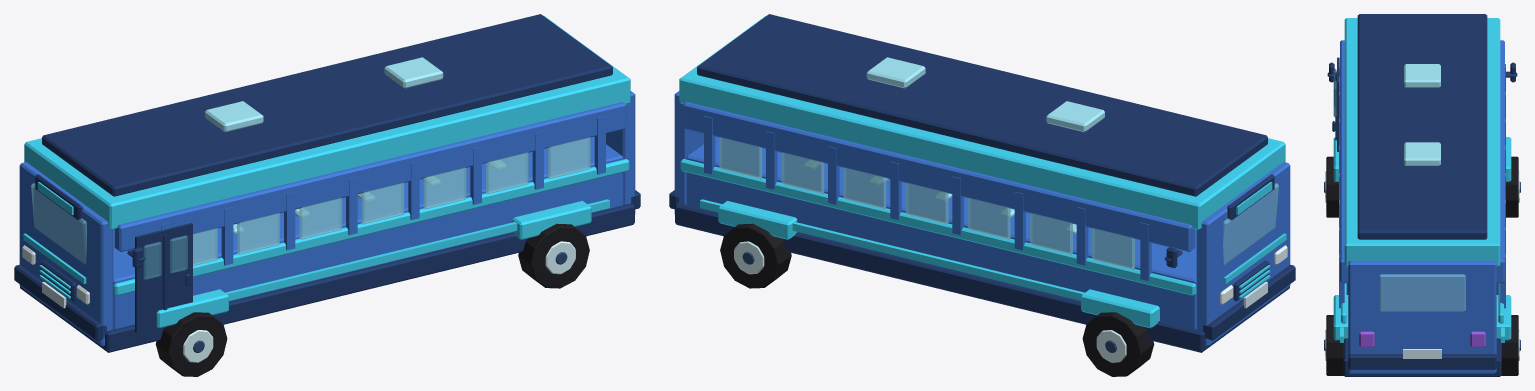
The model's file is Bus.fbx.
3 renders of one model, left to right at view 1: azimuth 30°, elevation 25°; view 2: azimuth 150°, elevation 25°; view 3: azimuth 270°, elevation 25°, orthographic. The views are drawn at different scales.
Visible parts, largest first — view 1: Dark Blue Roof Top, Lower Bus Body, Rounded Roof Cap, Left Top Window Frame, Dark Lower Chassis, Front Face, Left Cyan Side Stripe, Right Passenger Door Dark Outline, Left Lower Cyan Decorative Stripe, Left Wheel -2.65 Tire, Left Wheel 2.6 Tire, Large Front Windshield (+26 smaller); view 2: Dark Blue Roof Top, Lower Bus Body, Rounded Roof Cap, Right Top Window Frame, Dark Lower Chassis, Front Face, Right Cyan Side Stripe, Right Lower Cyan Decorative Stripe, Right Wheel -2.65 Tire, Right Wheel 2.6 Tire, Large Front Windshield, Right Front Wheel Fender (+24 smaller); view 3: Dark Blue Roof Top, Rear Face, Rounded Roof Cap, Rear Window, Rear Bumper, Left Top Window Frame, Right Top Window Frame, Dark Lower Chassis, Small Roof Vent 1, Small Roof Vent 2, Left Wheel 2.6 Tire, Right Wheel 2.6 Tire (+12 smaller).
Part boxes in pixels (x1,y1,x2,y2): Dark Blue Roof Top: (42, 14, 612, 196); Lower Bus Body: (113, 136, 623, 329); Rounded Roof Cap: (24, 15, 630, 229); Left Top Window Frame: (114, 102, 626, 251); Dark Lower Chassis: (20, 203, 634, 352); Front Face: (19, 162, 113, 346); Left Cyan Side Stripe: (113, 159, 629, 295); Right Passenger Door Dark Outline: (135, 223, 192, 333); Left Lower Cyan Decorative Stripe: (225, 199, 609, 300); Left Wheel -2.65 Tire: (155, 312, 227, 376); Left Wheel 2.6 Tire: (518, 223, 589, 288); Large Front Windshield: (31, 183, 86, 264); Dark Blue Roof Top: (697, 14, 1267, 196); Lower Bus Body: (686, 136, 1196, 329); Rounded Roof Cap: (679, 15, 1285, 229); Right Top Window Frame: (683, 102, 1195, 251); Dark Lower Chassis: (675, 203, 1289, 352); Front Face: (1196, 162, 1290, 346); Right Cyan Side Stripe: (680, 159, 1196, 295); Right Lower Cyan Decorative Stripe: (700, 199, 1084, 300); Right Wheel -2.65 Tire: (1082, 312, 1154, 376); Right Wheel 2.6 Tire: (720, 223, 791, 288); Large Front Windshield: (1223, 183, 1278, 264); Right Front Wheel Fender: (1081, 289, 1159, 328); Dark Blue Roof Top: (1357, 14, 1487, 239); Rear Face: (1348, 260, 1496, 373); Rounded Roof Cap: (1344, 18, 1500, 266); Rear Window: (1379, 274, 1465, 311); Rear Bumper: (1348, 354, 1496, 369); Left Top Window Frame: (1340, 40, 1348, 283); Right Top Window Frame: (1496, 40, 1504, 283); Dark Lower Chassis: (1343, 283, 1501, 376); Small Roof Vent 1: (1404, 64, 1440, 87); Small Roof Vent 2: (1404, 142, 1440, 165); Left Wheel 2.6 Tire: (1326, 315, 1343, 375); Right Wheel 2.6 Tire: (1501, 315, 1518, 375).
Bounding box in the file's own units: 796 × 282 × 276.
